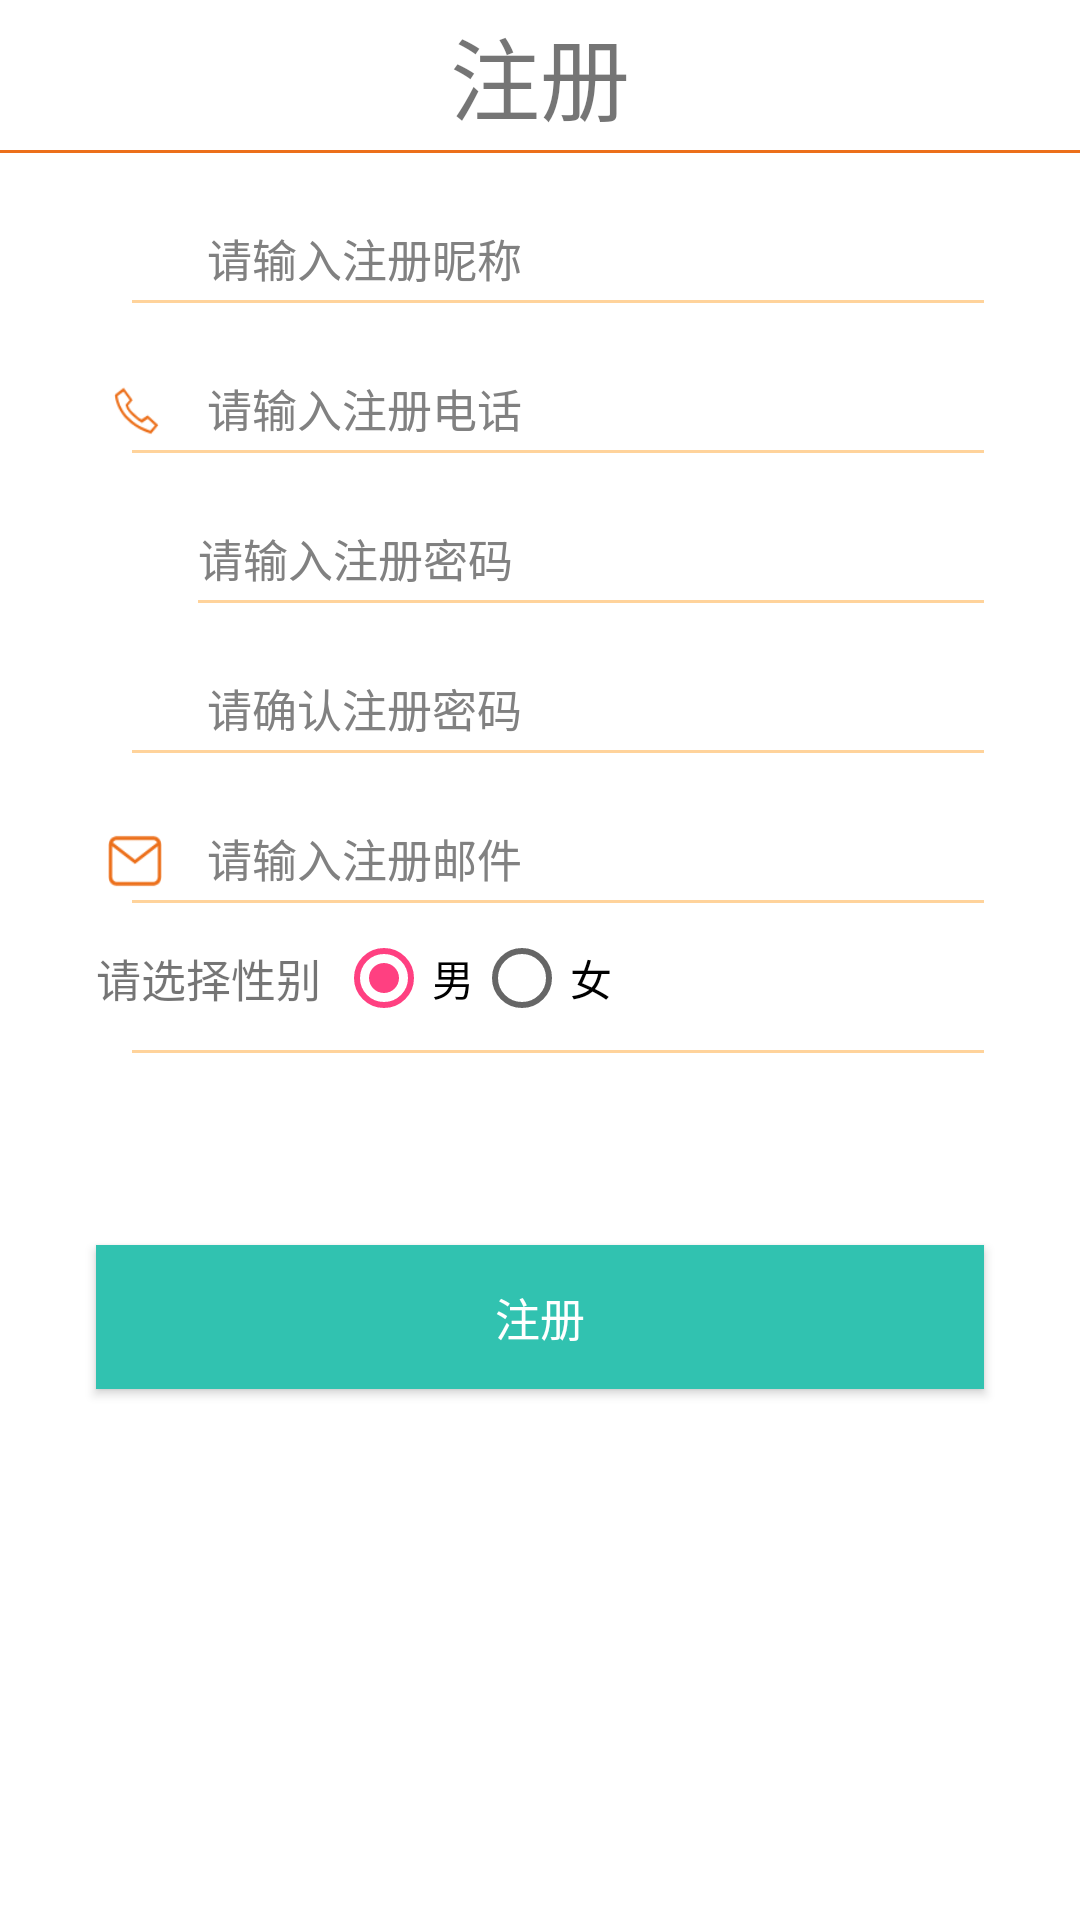

Named icons in this screenshot (1080px×1920px) and their bounding boxes, (x1, y1, x2, y2):
email: (108, 836, 162, 886)
tel: (115, 388, 158, 434)
